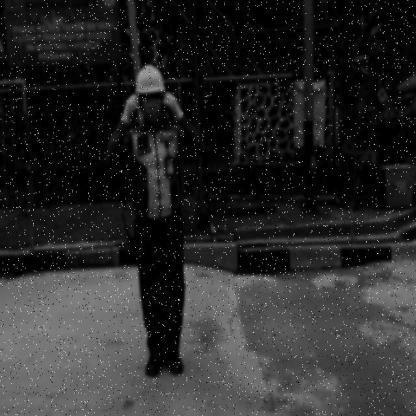boots: (145, 349, 166, 377), (164, 354, 184, 376)
gloves: (161, 92, 184, 126), (120, 93, 141, 126)
helmet: (134, 62, 167, 94)
mask: (141, 98, 164, 124)
